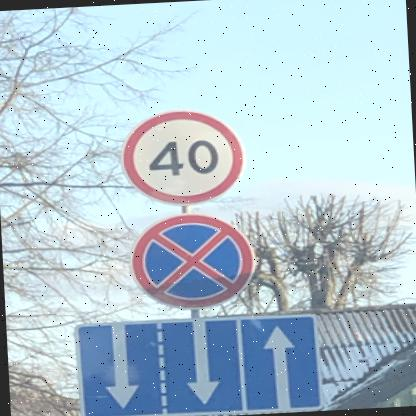speedlimit: (115, 105, 243, 207)
